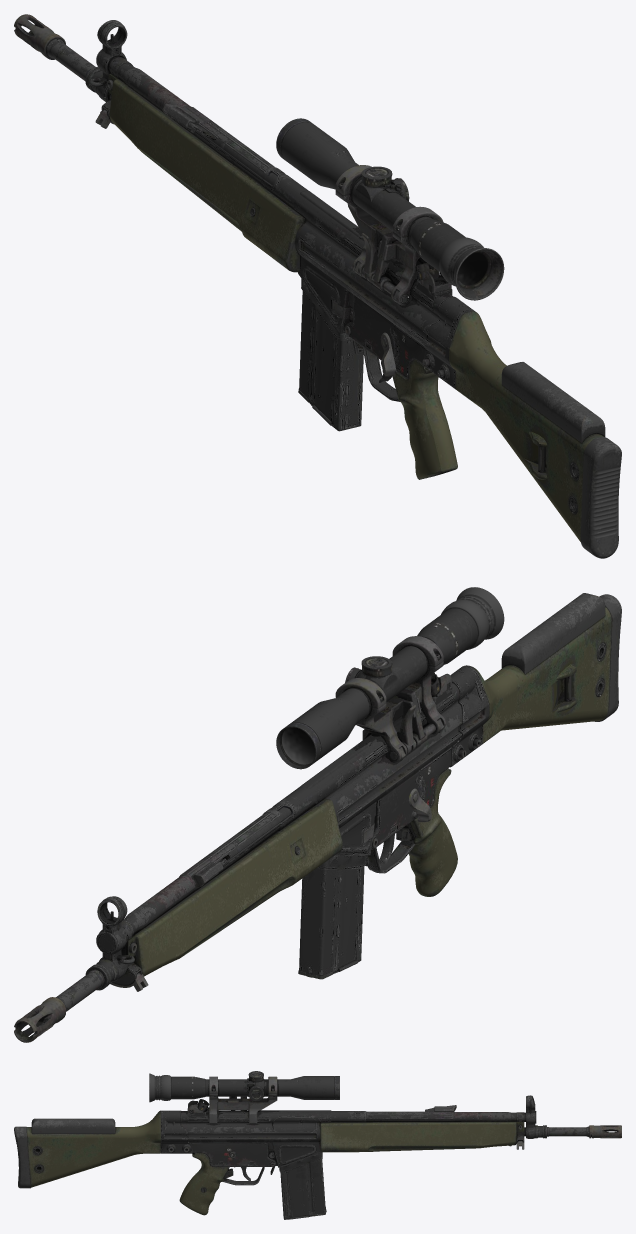
The picture shows the model from 3 angles, top to bottom: view 1: azimuth 30°, elevation 25°; view 2: azimuth 150°, elevation 25°; view 3: azimuth 270°, elevation 25°; orthographic projection. The views are drawn at different scales.
Visible parts, largest first — view 1: v_g3sg1_R; view 2: v_g3sg1_R; view 3: v_g3sg1_R.
Boxes of the visible parts, <box> form: v_g3sg1_R: <box>14,14,621,558</box>; v_g3sg1_R: <box>14,587,621,1042</box>; v_g3sg1_R: <box>14,1071,621,1219</box>.
Bounding box in the file's own units: 0.0612 × 0.282 × 1.09.
Materials: 2 (2 with a texture image).
